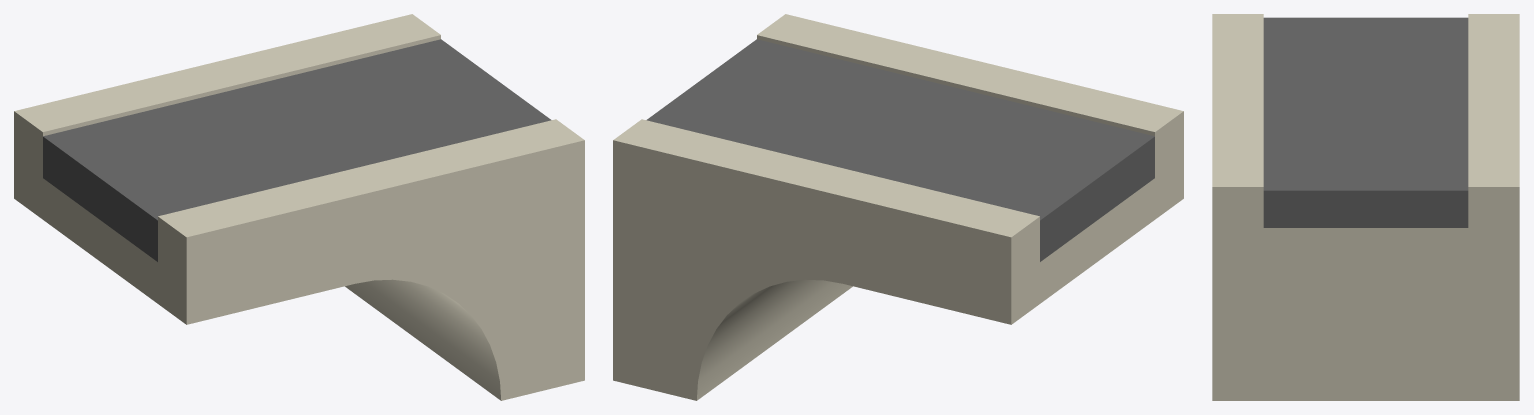
File: roadTile_208.fbx
3 views of the same model, side by side, from view 1: azimuth 30°, elevation 25°; view 2: azimuth 150°, elevation 25°; view 3: azimuth 270°, elevation 25° (orthographic). The views are drawn at different scales.
Parts seen in each view (by area): view 1: roadTile_208; view 2: roadTile_208; view 3: roadTile_208.
Boxes of the visible parts, x1=… form: roadTile_208: x1=14, y1=14, x2=584, y2=400; roadTile_208: x1=613, y1=14, x2=1183, y2=400; roadTile_208: x1=1212, y1=14, x2=1519, y2=400.
Size of the model in its own units: 118 by 68.11 by 88.58.
